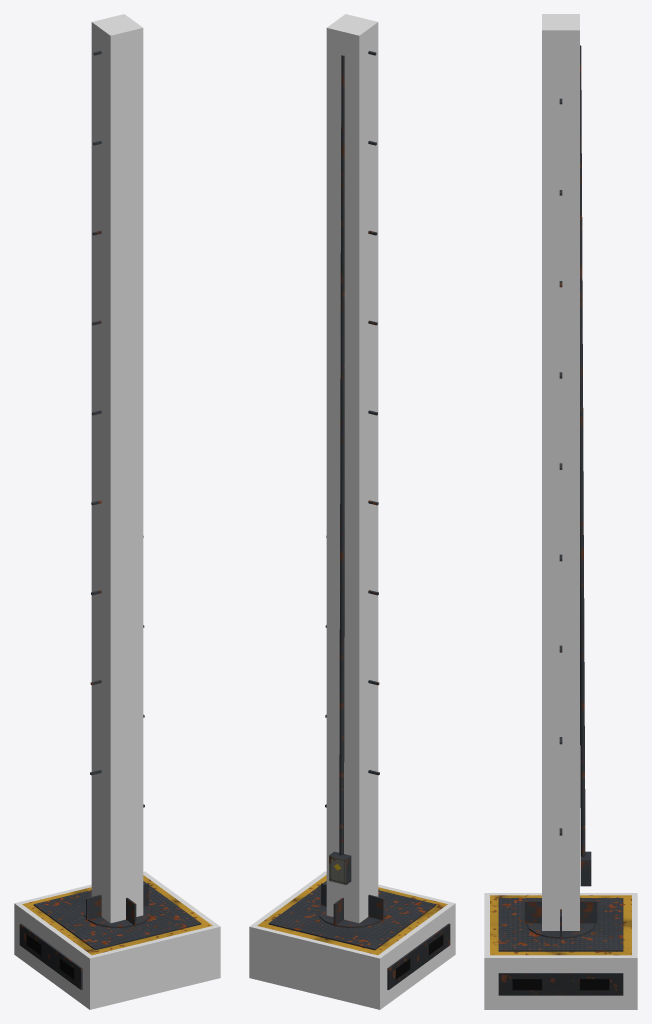
File: Kit_Lot_FloodMast_01.glb
3 views of the same model, side by side, from view 1: azimuth 30°, elevation 25°; view 2: azimuth 150°, elevation 25°; view 3: azimuth 270°, elevation 25° (orthographic).
Visible parts, largest first — view 1: COL_Kit_Lot_FloodMast_01_1, COL_Kit_Lot_FloodMast_01_0, Kit_Lot_FloodMast_01_LOD0; view 2: COL_Kit_Lot_FloodMast_01_1, Kit_Lot_FloodMast_01_LOD0, COL_Kit_Lot_FloodMast_01_0; view 3: COL_Kit_Lot_FloodMast_01_1, Kit_Lot_FloodMast_01_LOD0, COL_Kit_Lot_FloodMast_01_0.
Part boxes in pixels (bbox=[...]): COL_Kit_Lot_FloodMast_01_1: bbox=[91, 14, 143, 923]; COL_Kit_Lot_FloodMast_01_0: bbox=[14, 871, 220, 1009]; Kit_Lot_FloodMast_01_LOD0: bbox=[19, 51, 212, 989]; COL_Kit_Lot_FloodMast_01_1: bbox=[326, 14, 378, 923]; Kit_Lot_FloodMast_01_LOD0: bbox=[257, 51, 450, 989]; COL_Kit_Lot_FloodMast_01_0: bbox=[249, 871, 455, 1009]; COL_Kit_Lot_FloodMast_01_1: bbox=[542, 14, 579, 930]; Kit_Lot_FloodMast_01_LOD0: bbox=[490, 45, 631, 995]; COL_Kit_Lot_FloodMast_01_0: bbox=[484, 893, 637, 1009].
Size of what is drawn, in the model's own units: 3.28 by 22 by 3.2.
Materials: 1 (1 with a texture image).
